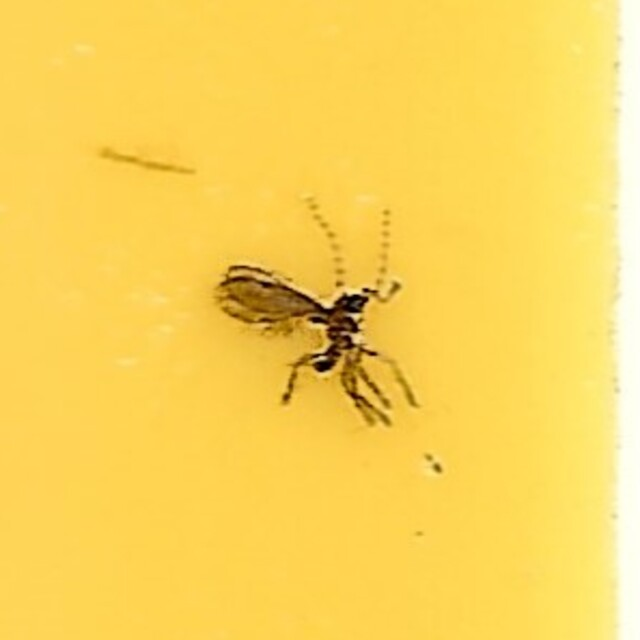Nematocera: (215, 204, 425, 436)
